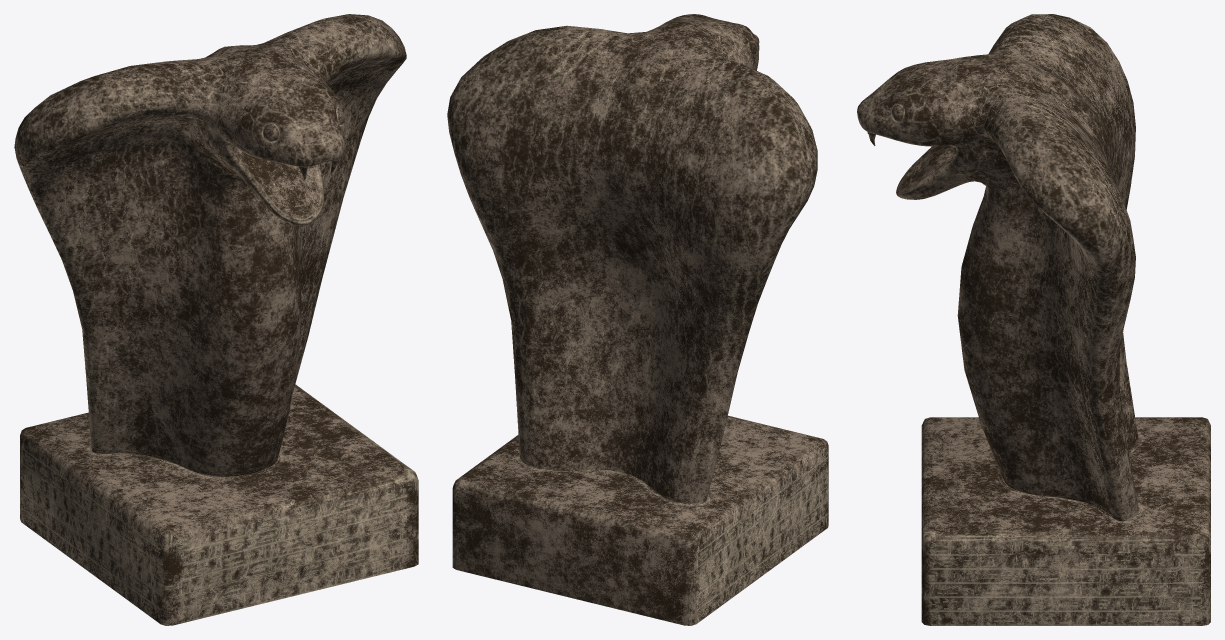
The model's file is wonsz_2.0.fbx.
3 renders of one model, left to right at view 1: azimuth 30°, elevation 25°; view 2: azimuth 150°, elevation 25°; view 3: azimuth 270°, elevation 25°, orthographic. The views are drawn at different scales.
Visible parts, largest first — view 1: wonsz_low; view 2: wonsz_low; view 3: wonsz_low.
Part boxes in pixels (x1,y1,x2,y2): wonsz_low: [14, 14, 418, 625]; wonsz_low: [447, 14, 828, 625]; wonsz_low: [857, 14, 1210, 625].
Size of the model in its own units: 1740 by 2258 by 1443.
